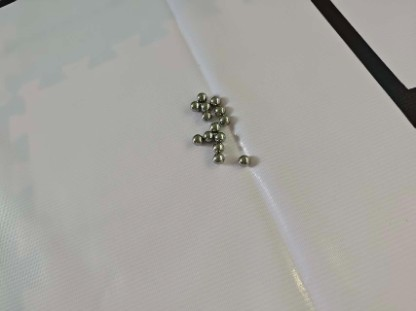ironball: (190, 133, 202, 144), (236, 154, 247, 165), (202, 129, 212, 141), (209, 95, 221, 105), (189, 99, 198, 110), (213, 105, 224, 114), (217, 115, 228, 124), (214, 154, 224, 163), (201, 110, 211, 119), (214, 131, 225, 139), (196, 92, 207, 100), (213, 143, 221, 152), (210, 120, 217, 130), (200, 102, 208, 110)
